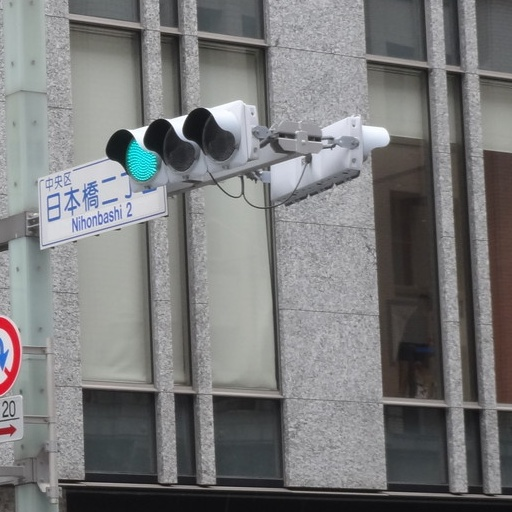Traffic_Signal_Blue: (116, 104, 247, 182)
